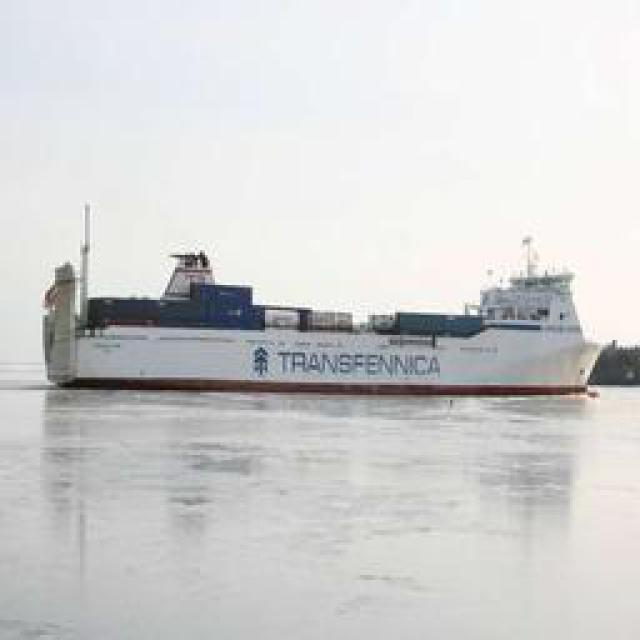Ship: (27, 228, 620, 396)
